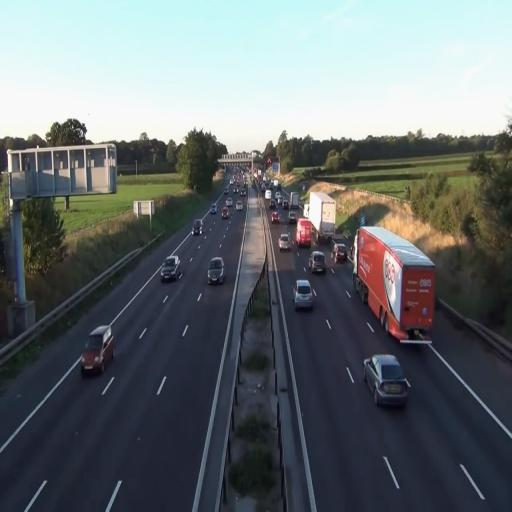vehicle: (352, 226, 436, 344), (363, 353, 411, 409), (80, 324, 116, 377), (295, 218, 316, 250), (293, 279, 315, 309), (160, 255, 183, 283), (206, 257, 226, 283), (308, 252, 326, 274), (332, 242, 348, 263), (278, 232, 292, 252), (270, 209, 280, 224)
